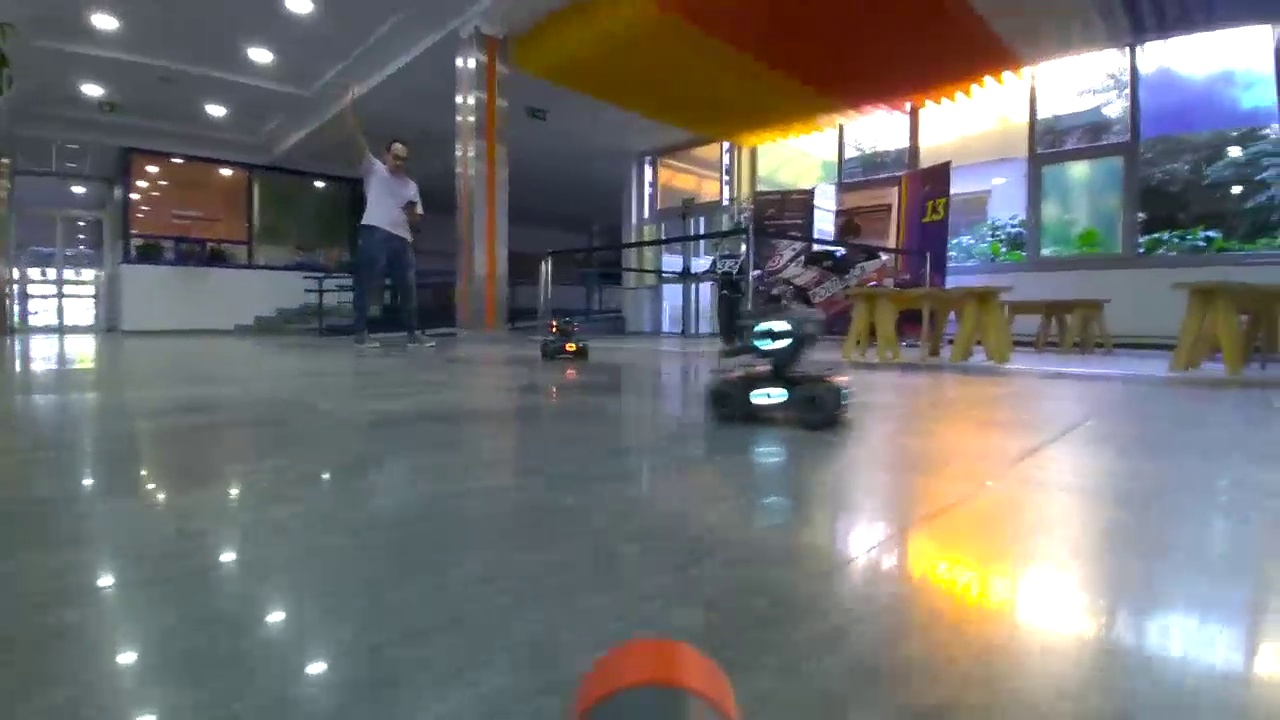robot: (707, 312, 852, 426), (540, 317, 589, 360)
